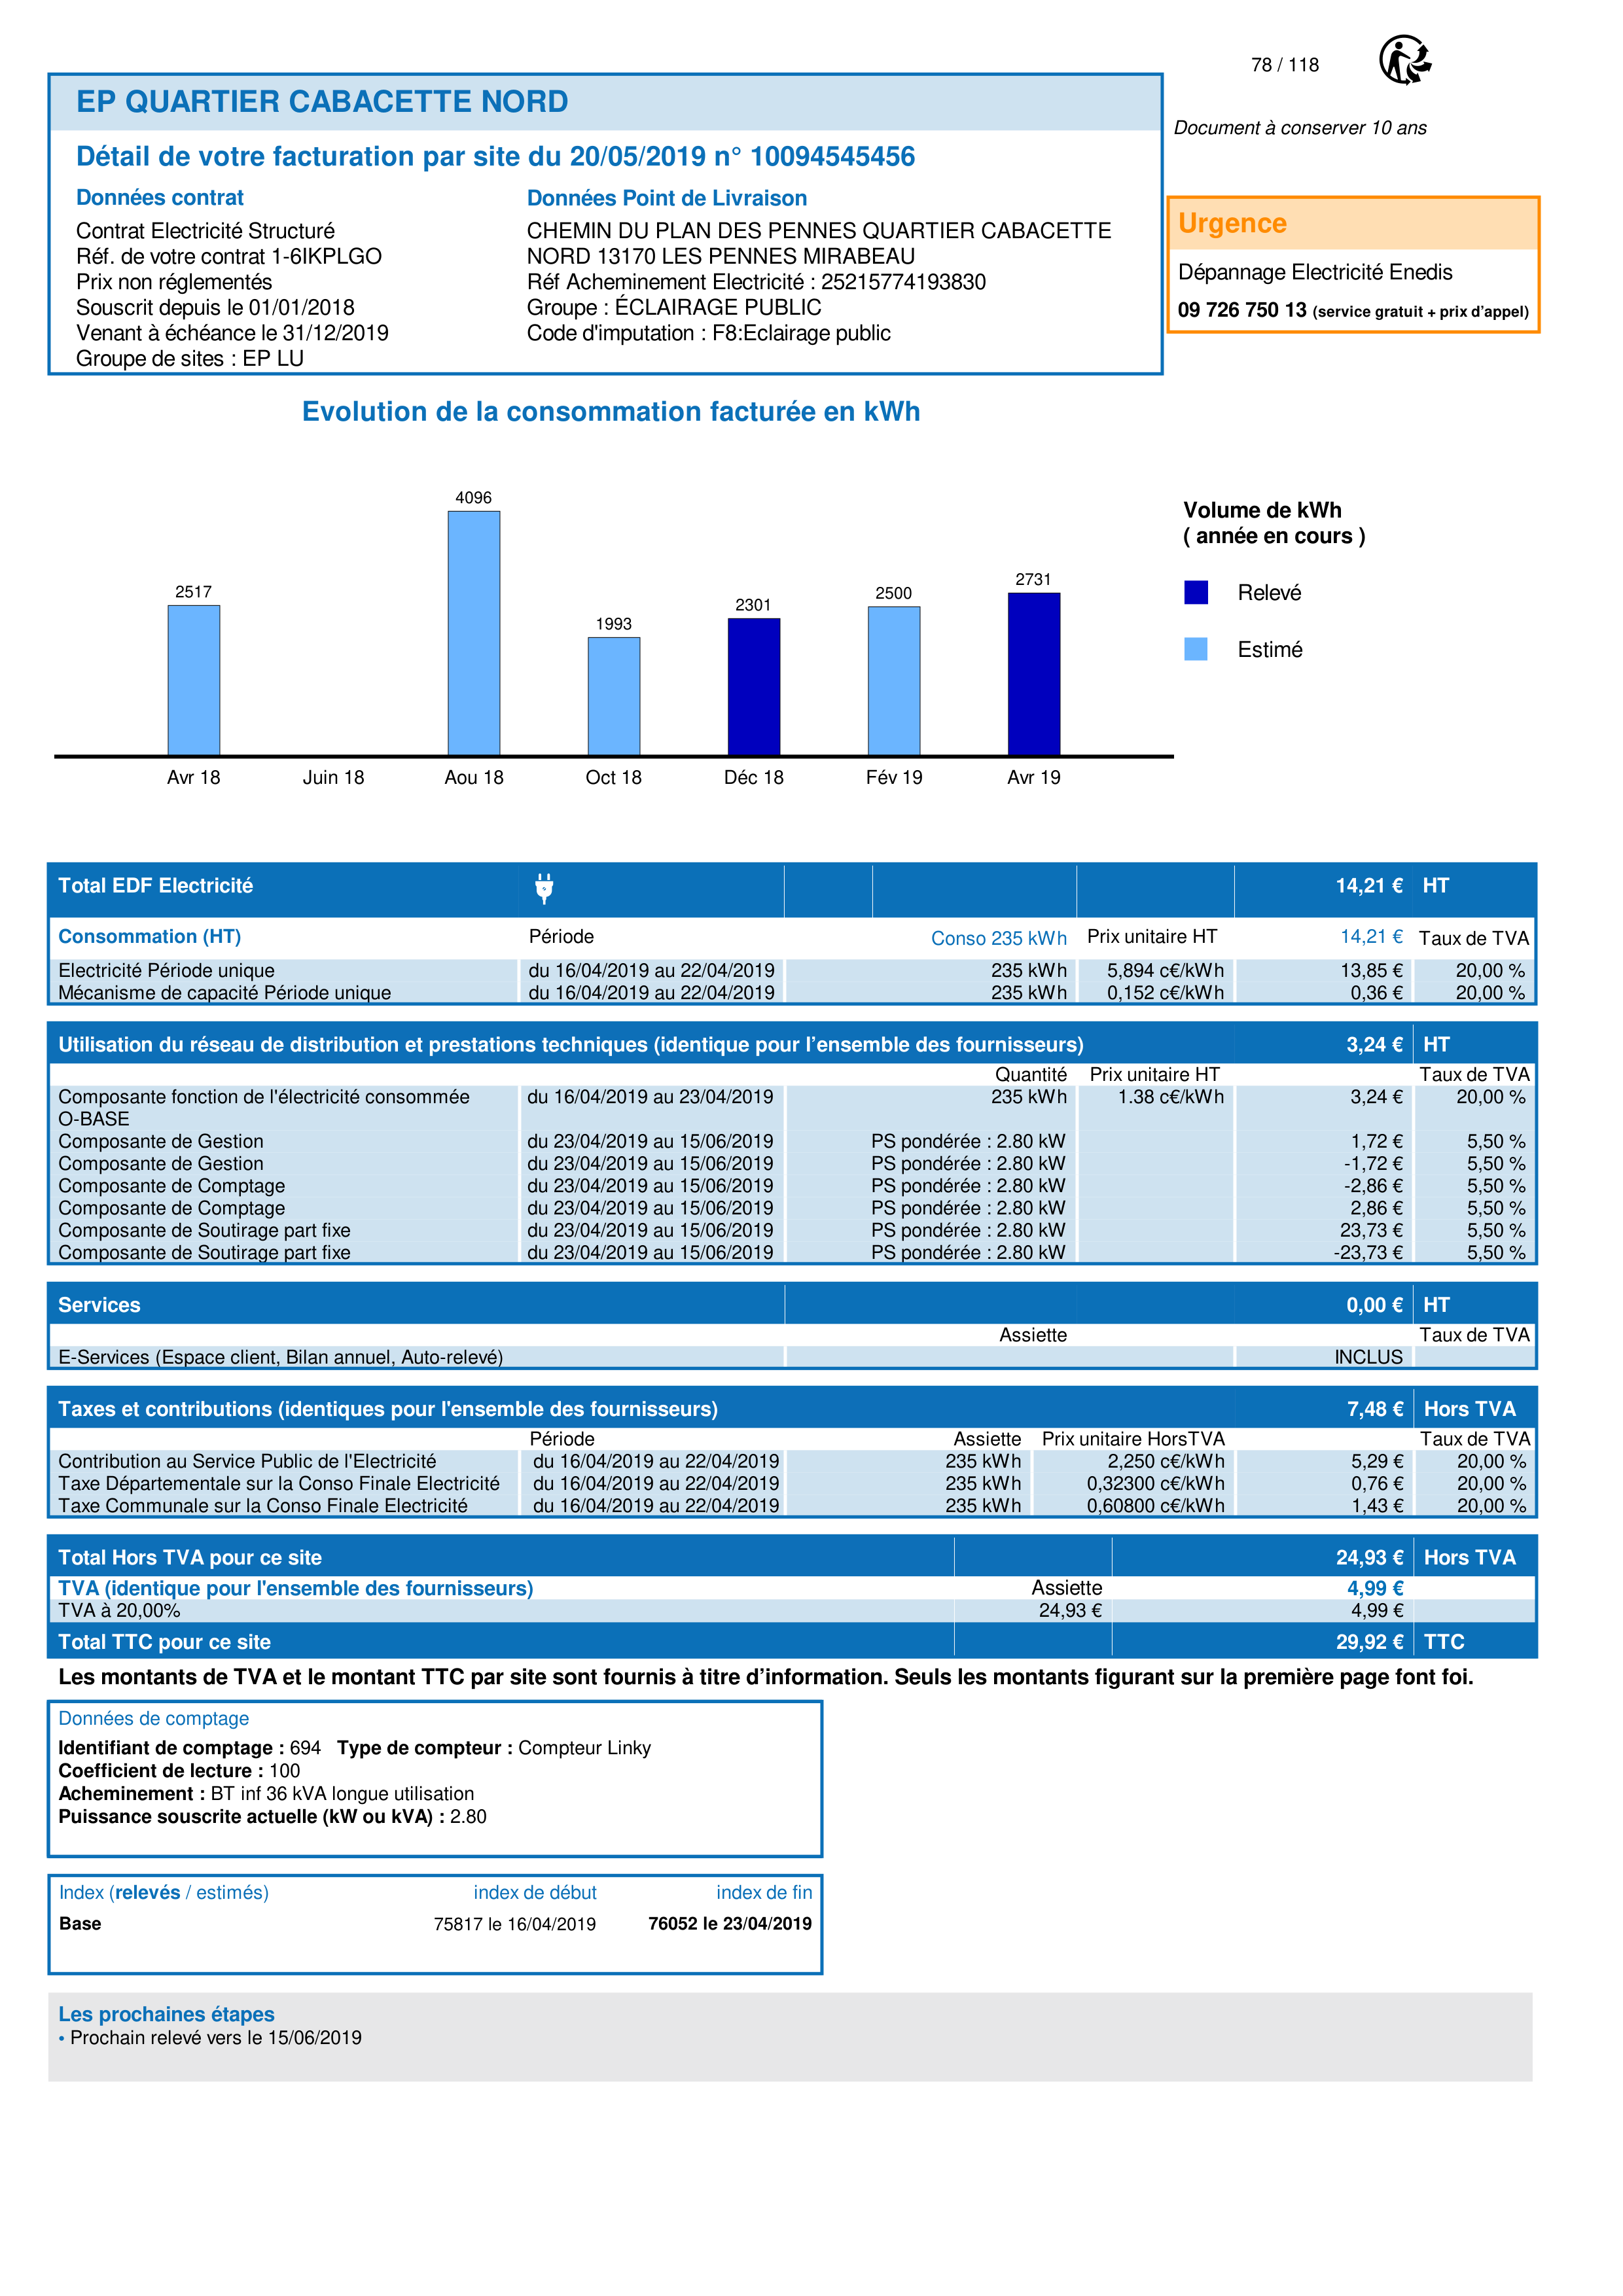area: (49, 1875, 824, 1975)
type_indicator: (49, 1875, 288, 1908)
